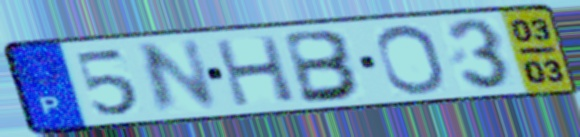3: (443, 15, 517, 93)
5: (70, 45, 142, 118)
B: (281, 28, 365, 106)
H: (210, 33, 300, 109)
N: (135, 36, 223, 118)
O: (372, 22, 451, 97)
